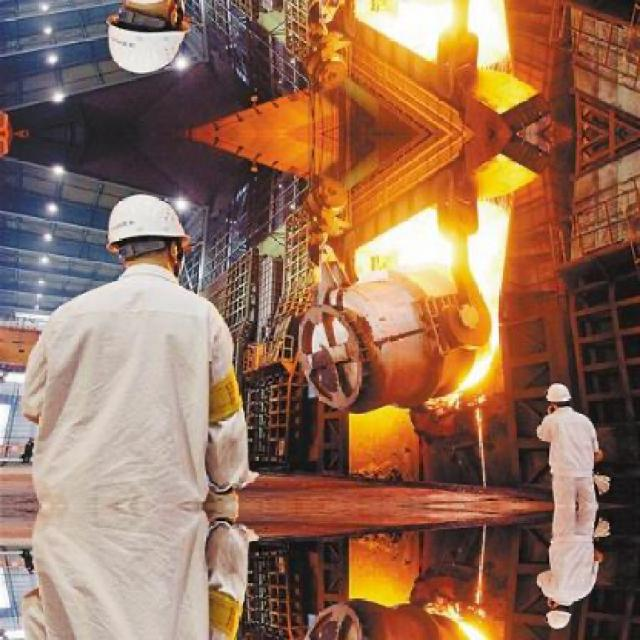helmet: (98, 185, 198, 288), (98, 0, 200, 82), (543, 597, 572, 628), (543, 382, 572, 412)
